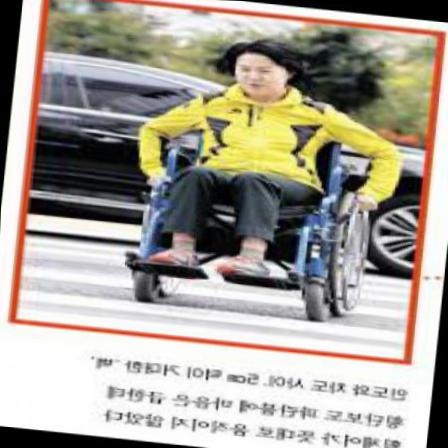wheel: (120, 29, 408, 327)
